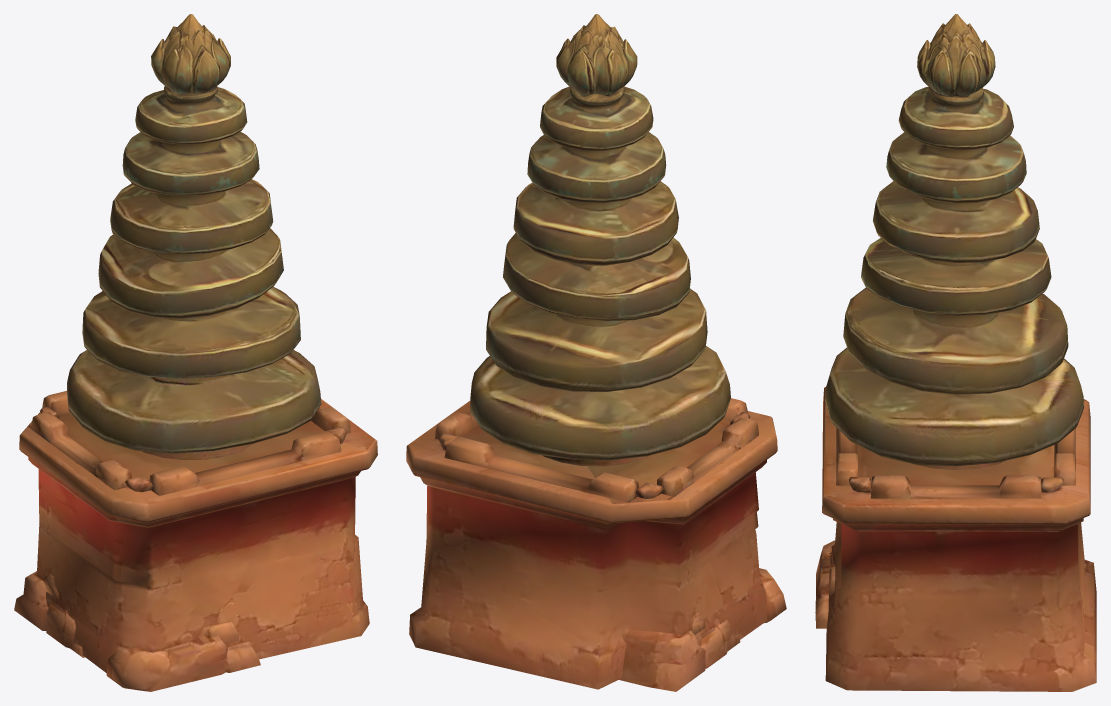
File: SM_Tripo_DesertFinial.glb
3 views of the same model, side by side, from view 1: azimuth 30°, elevation 25°; view 2: azimuth 150°, elevation 25°; view 3: azimuth 270°, elevation 25° (orthographic). The views are drawn at different scales.
Visible parts, largest first — view 1: SM_Tripo_DesertFinial_LOD0; view 2: SM_Tripo_DesertFinial_LOD0; view 3: SM_Tripo_DesertFinial_LOD0.
Boxes of the visible parts, box(x1,y1,x2,y2) form: SM_Tripo_DesertFinial_LOD0: box(14, 14, 377, 691); SM_Tripo_DesertFinial_LOD0: box(406, 14, 786, 691); SM_Tripo_DesertFinial_LOD0: box(815, 14, 1096, 691).
Size of what is drawn, in the model's own units: 2.53 by 5.5 by 2.28.
1 material, 1 textured.
